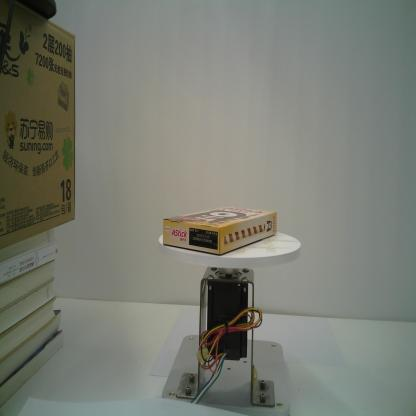Dessert: (162, 205, 278, 257)
